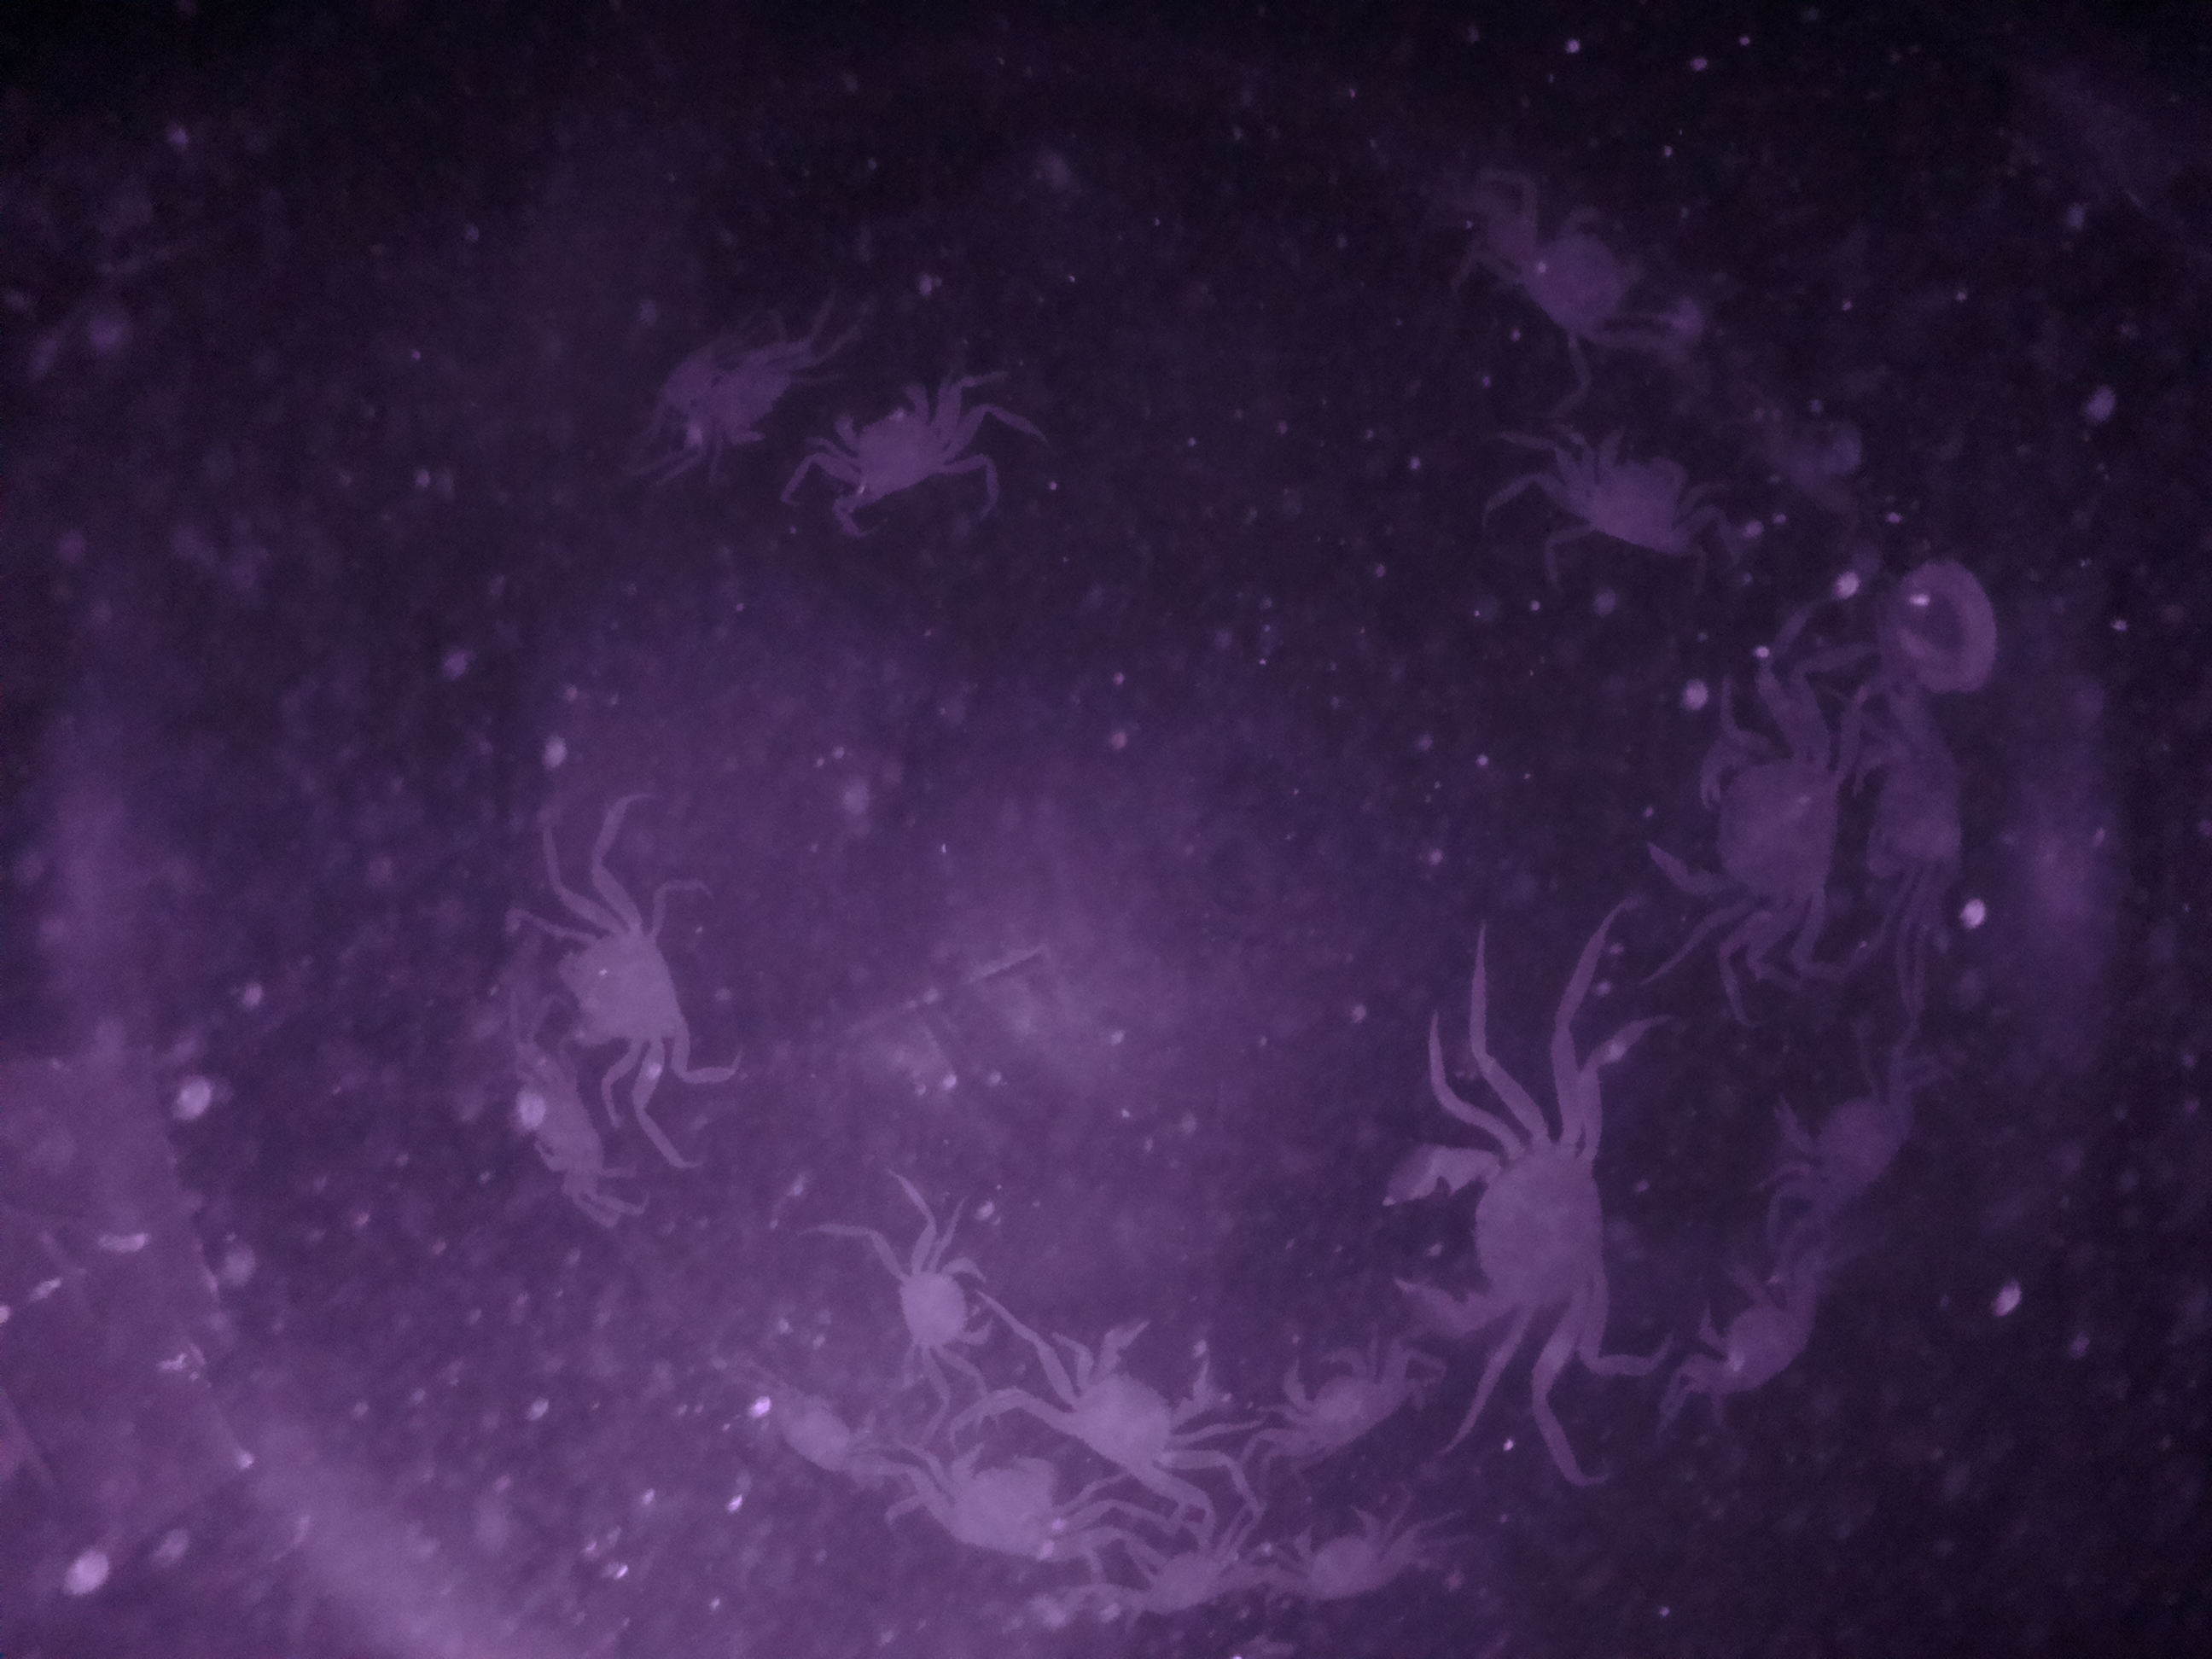Crab: (1367, 1117, 1642, 1344), (1649, 725, 1860, 951), (538, 877, 716, 1080), (1024, 1312, 1221, 1490), (1766, 1047, 1921, 1215), (815, 376, 986, 526), (1669, 1274, 1815, 1445), (914, 1434, 1078, 1575), (1545, 427, 1705, 563), (1247, 1330, 1392, 1464), (876, 1227, 996, 1378), (1275, 1490, 1418, 1615)
